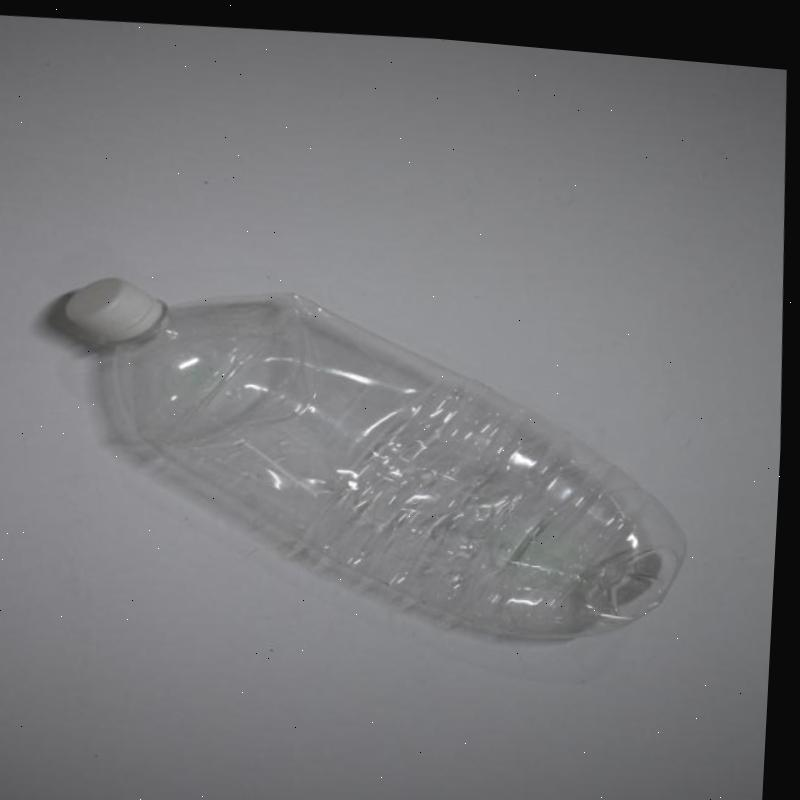botella: (46, 250, 704, 656)
